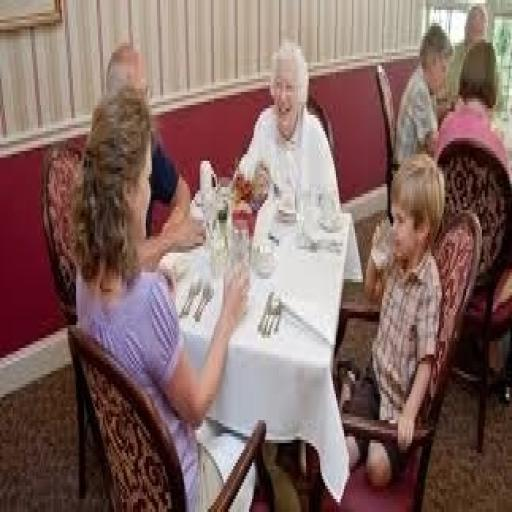eating: (70, 78, 258, 508), (336, 148, 447, 489), (234, 36, 342, 217)
